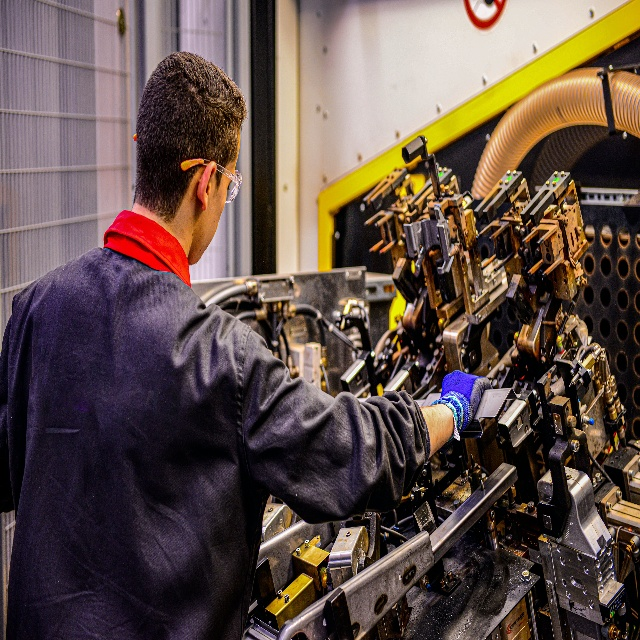Gafas: (133, 132, 244, 207)
Guantes: (432, 369, 493, 446)
